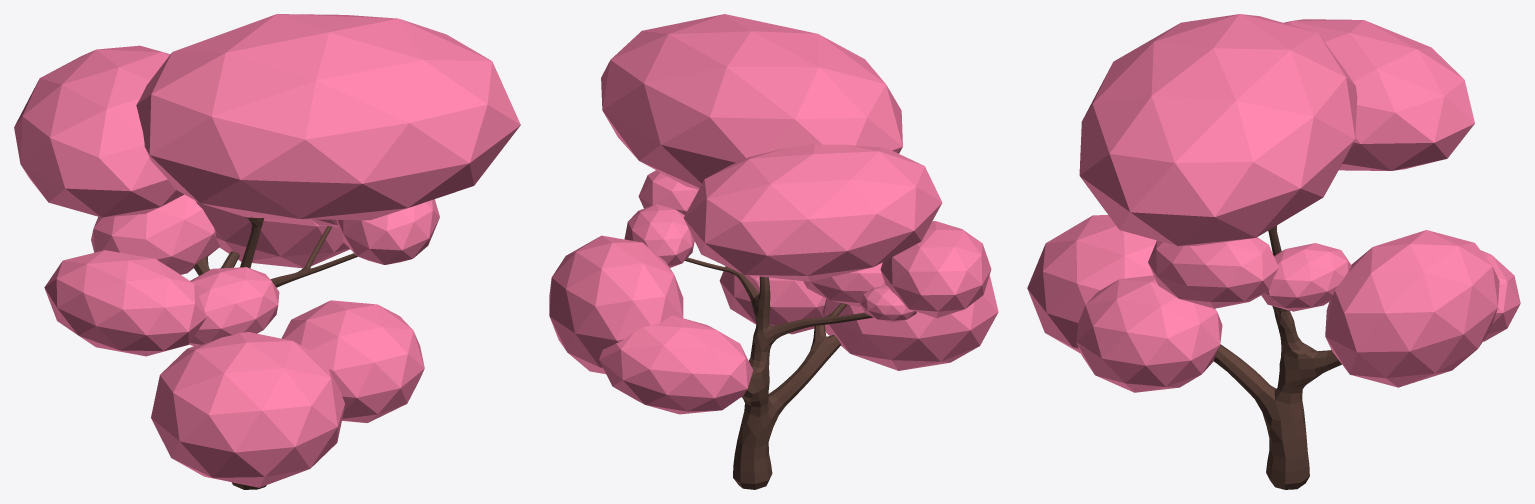
The model's file is arbolCerezo.fbx.
3 views of the same model, side by side, from view 1: azimuth 30°, elevation 25°; view 2: azimuth 150°, elevation 25°; view 3: azimuth 270°, elevation 25° (orthographic). The views are drawn at different scales.
Visible parts, largest first — view 1: Cube; view 2: Cube; view 3: Cube.
Part boxes in pixels (x1,y1,x2,y2): Cube: [14, 14, 520, 489]; Cube: [549, 14, 998, 489]; Cube: [1027, 14, 1520, 489].
Bounding box in the file's own units: 3357 × 3501 × 3425.
